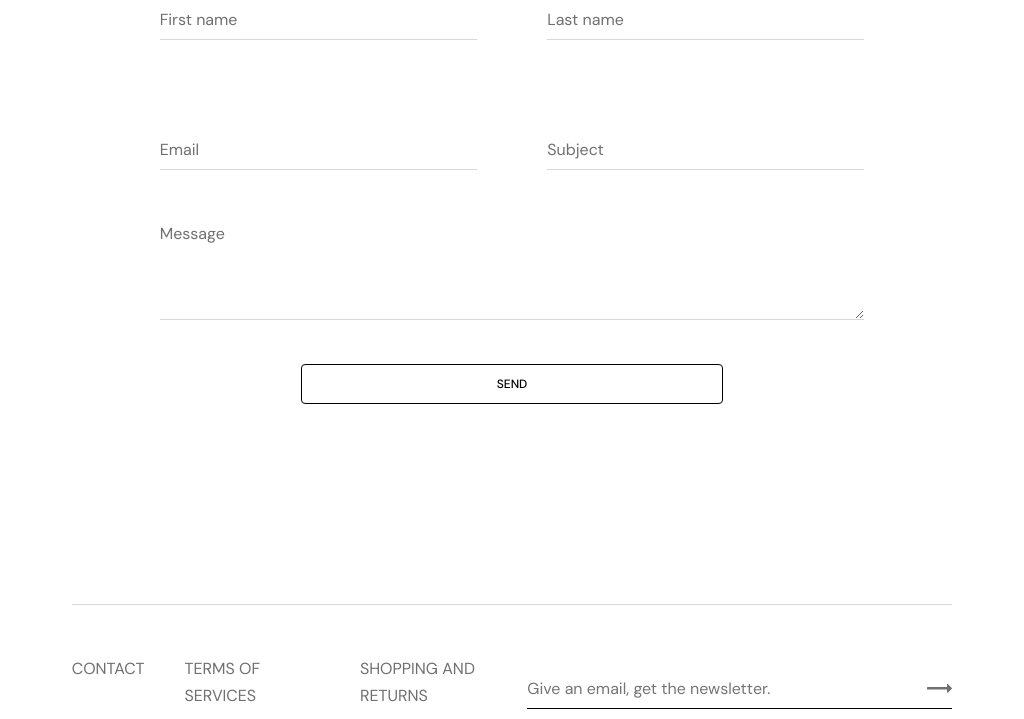
Scenario: Contact Us Page › should show error messages for empty required fields
This screenshot has width=1024, height=719.
(page scrolled)
Click the button "SEND" at (513, 384), box [301,364,724,404]
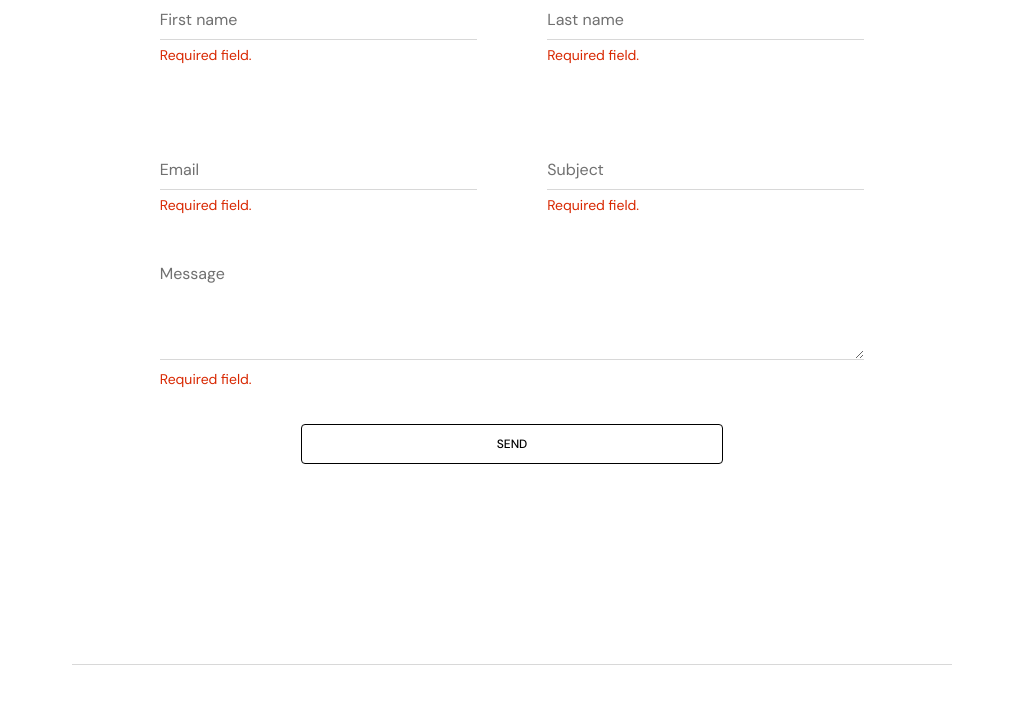
Now the text with test id "firstName-error" reads "Required field.", box [160,46,252,64]
Now the text with test id "lastName-error" reads "Required field.", box [547,46,639,64]
Now the text with test id "email-error" reads "Required field.", box [160,196,252,214]
